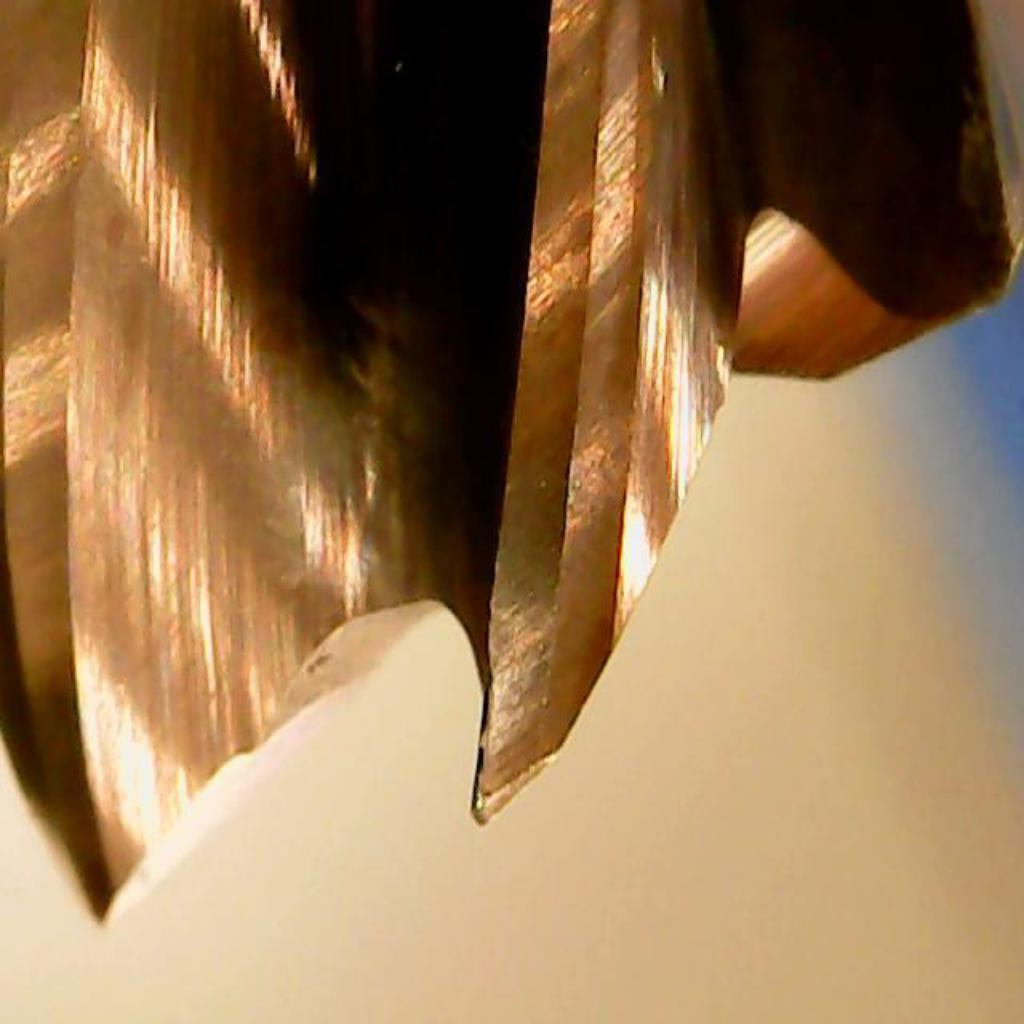Tool-wear-class-1: (436, 445, 636, 834)
